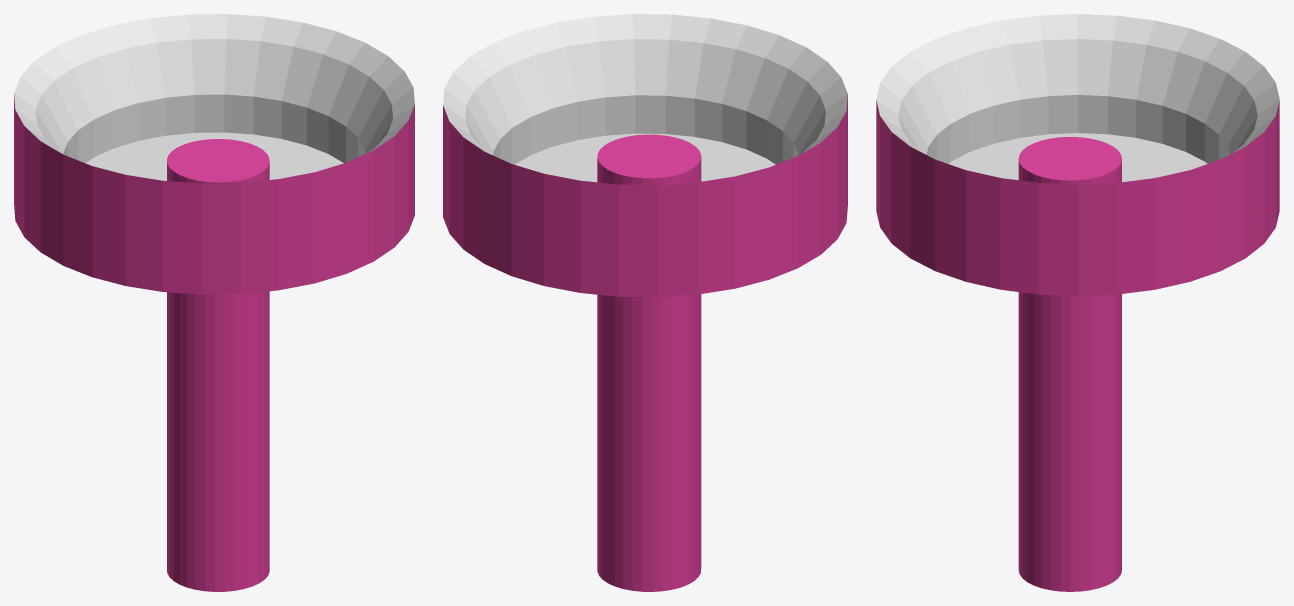
Rendered from Fonte.fbx.
The picture shows the model from 3 angles, left to right: view 1: azimuth 30°, elevation 25°; view 2: azimuth 150°, elevation 25°; view 3: azimuth 270°, elevation 25°; orthographic projection.
Visible parts, largest first — view 1: Fonte; view 2: Fonte; view 3: Fonte.
Boxes of the visible parts, <box> form: Fonte: <box>14,14,414,591</box>; Fonte: <box>443,14,847,591</box>; Fonte: <box>876,14,1279,591</box>.
Size of the model in its own units: 358 by 461 by 358.
